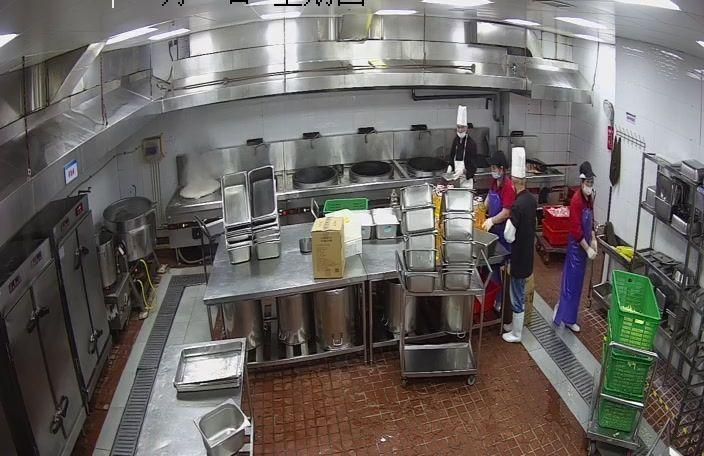mask: (458, 128, 468, 137)
